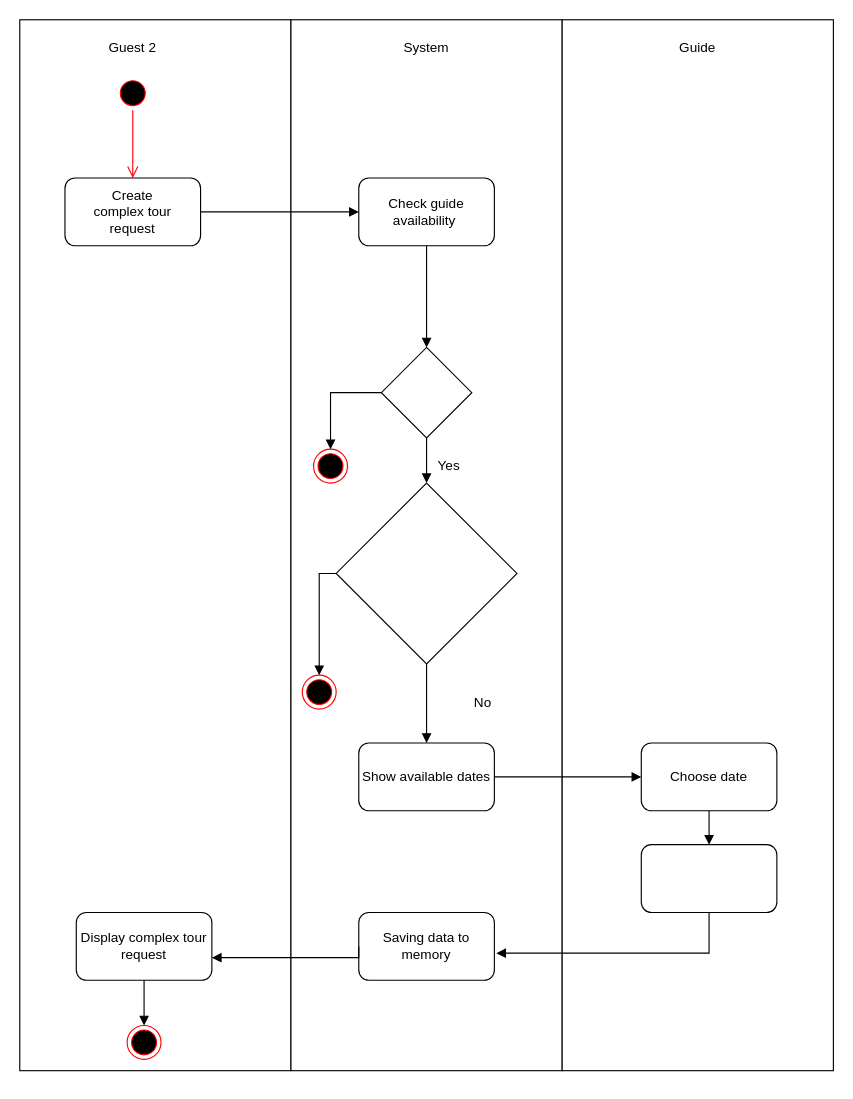
The diagram is 853 pixels wide and 1099 high, and some of its shapes have lost their labels. Each missing label, with the box of its shape:
Accept complex tour request: (640, 844, 777, 912)
Is already guide in complex tour?: (335, 482, 517, 664)
Is free?: (380, 346, 472, 438)
